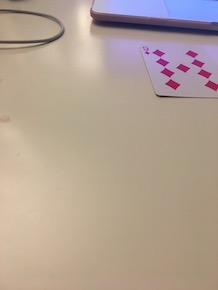NineOfDiamonds: (138, 32, 218, 100)
